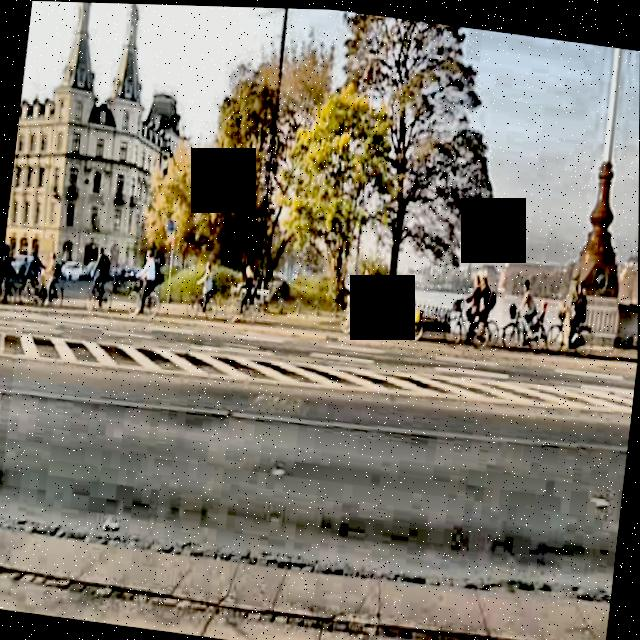bicycle: (0, 318, 19, 482)
